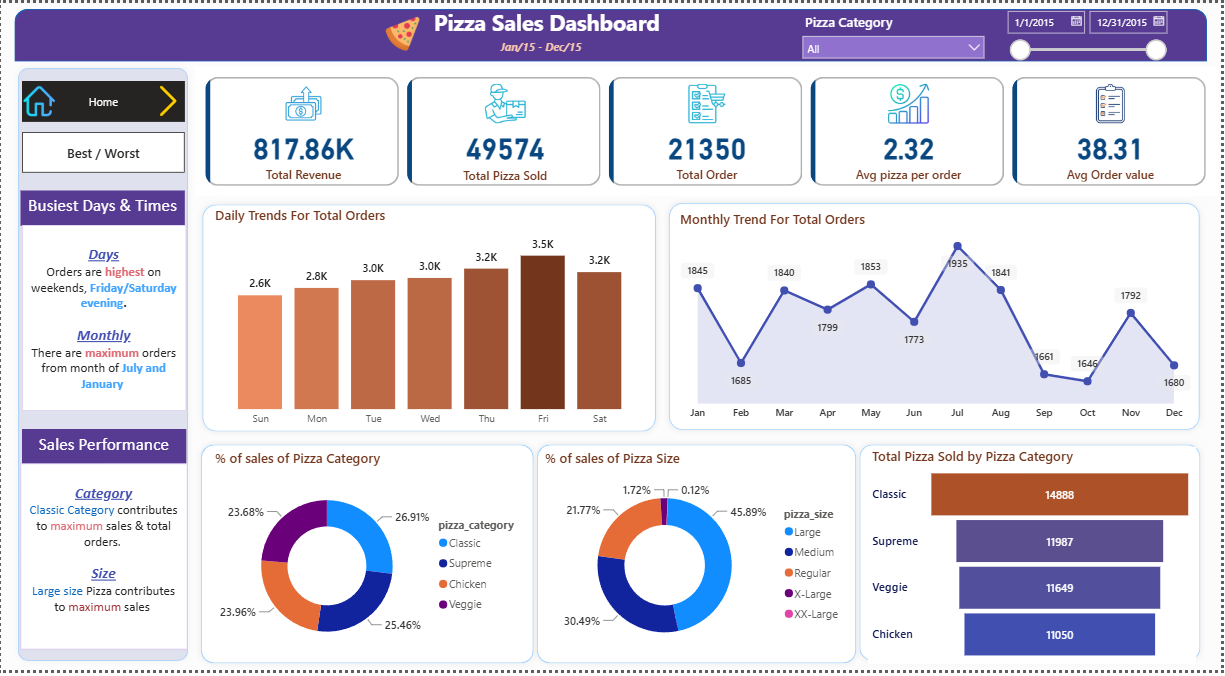

Layout of this report page (visuals, bound fields, positions):
{"tool":"powerbi","page":{"name":"Home","canvas":[1500,820],"ordinal":0},"visuals":[{"type":"cardVisual","fields":{"Data":["pizza_sales.Total Revenue","pizza_sales.Total Pizza Sold","pizza_sales.Total Order","pizza_sales.Avg pizza per order","pizza_sales.Avg Order value"]},"box":[238.3,78.3,1258.3,160],"z":0},{"type":"shape","box":[16.6,7.4,1466.1,64.5],"z":1000},{"type":"textbox","box":[526.7,0,303.3,56.7],"z":2000},{"type":"textbox","box":[608.3,38.3,111.7,33.3],"z":3000},{"type":"image","box":[471.7,13.3,43.3,50],"z":4000},{"type":"shape","box":[240,240,573.3,295],"z":5000},{"type":"shape","box":[813.3,238.3,668.3,295],"z":6000},{"type":"columnChart","title":"Daily Trends For Total Orders","fields":{"Category":["pizza_sales.Order day"],"Y":["pizza_sales.Total Order"]},"box":[258.3,248.3,538.3,280],"z":7000},{"type":"areaChart","title":"Monthly Trend For Total Orders","fields":{"Category":["pizza_sales.Order Month"],"Y":["pizza_sales.Total Order"]},"box":[830,255,638.3,266.7],"z":8000},{"type":"shape","box":[238.3,535,425,285],"z":9000},{"type":"shape","box":[651.7,535,408.3,285],"z":10000},{"type":"shape","box":[1046.7,535,435,281.7],"z":11000},{"type":"donutChart","title":"% of sales of Pizza Category","fields":{"Category":["pizza_sales.pizza_category"],"Y":["pizza_sales.Total Revenue"]},"box":[258.3,548.3,393.3,266.7],"z":12000},{"type":"donutChart","title":"% of sales of Pizza Size","fields":{"Category":["pizza_sales.pizza_size"],"Y":["pizza_sales.Total Revenue"]},"box":[663.3,548.3,383.3,265],"z":13000},{"type":"funnel","title":"Total Pizza Sold by Pizza Category","fields":{"Category":["pizza_sales.pizza_category"],"Y":["pizza_sales.Total Pizza Sold"]},"box":[1065,545,403.3,266.7],"z":14000},{"type":"shape","box":[13.3,71.7,225,745],"z":15000},{"type":"textbox","box":[23.3,230,201.7,43.3],"z":16000},{"type":"textbox","box":[25,273.3,201.7,228.3],"z":17000},{"type":"textbox","box":[25,523.3,201.7,43.3],"z":18000},{"type":"textbox","box":[23.3,566.7,205,228.3],"z":19000},{"type":"slicer","fields":{"Values":["pizza_sales.pizza_category"]},"box":[975,6.7,243.3,71.7],"z":20000},{"type":"slicer","fields":{"Values":["pizza_sales.order_date"]},"box":[1225,0,216.7,78.3],"z":21000},{"type":"pageNavigator","box":[25,95,200,50],"z":21001},{"type":"pageNavigator","box":[25,158.3,200,50],"z":21002},{"type":"image","box":[28.3,93.3,38.3,53.3],"z":21003},{"type":"image","box":[186.7,98.3,38.3,45],"z":21004}]}

Visuals, with their boxes in screenshot pixels (x1, y1, x2, y2), scaled from the page's 1500x820 canvas onto the 1225x676 screenshot:
cardVisual - pizza_sales.Total Revenue x pizza_sales.Total Pizza Sold: box(195, 65, 1222, 196)
shape: box(14, 6, 1211, 59)
textbox: box(430, 0, 678, 47)
textbox: box(497, 32, 588, 59)
image: box(385, 11, 421, 52)
shape: box(196, 198, 664, 441)
shape: box(664, 196, 1210, 440)
"Daily Trends For Total Orders" columnChart: box(211, 205, 651, 436)
"Monthly Trend For Total Orders" areaChart: box(678, 210, 1199, 430)
shape: box(195, 441, 542, 675)
shape: box(532, 441, 866, 675)
shape: box(855, 441, 1210, 673)
"% of sales of Pizza Category" donutChart: box(211, 452, 532, 672)
"% of sales of Pizza Size" donutChart: box(542, 452, 855, 670)
"Total Pizza Sold by Pizza Category" funnel: box(870, 449, 1199, 669)
shape: box(11, 59, 195, 673)
textbox: box(19, 190, 184, 225)
textbox: box(20, 225, 185, 414)
textbox: box(20, 431, 185, 467)
textbox: box(19, 467, 186, 655)
slicer - pizza_sales.pizza_category: box(796, 6, 995, 65)
slicer - pizza_sales.order_date: box(1000, 0, 1177, 65)
pageNavigator: box(20, 78, 184, 120)
pageNavigator: box(20, 131, 184, 172)
image: box(23, 77, 54, 121)
image: box(152, 81, 184, 118)
